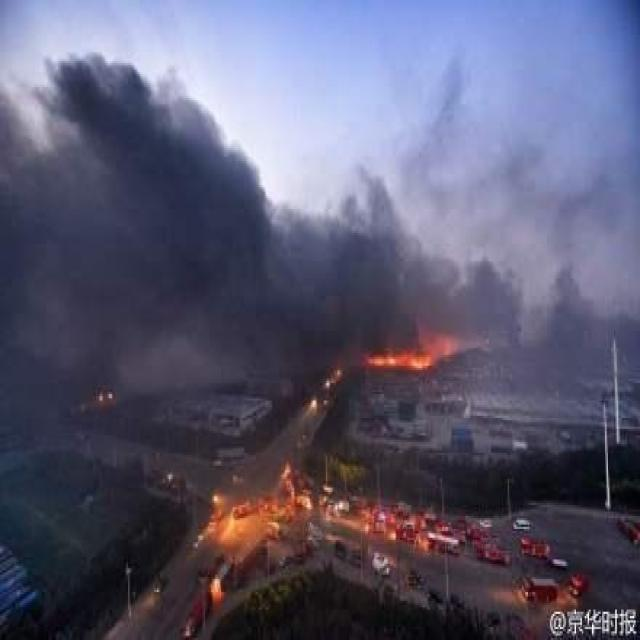Fire: (362, 354, 435, 372)
Smoke: (1, 50, 612, 396)
